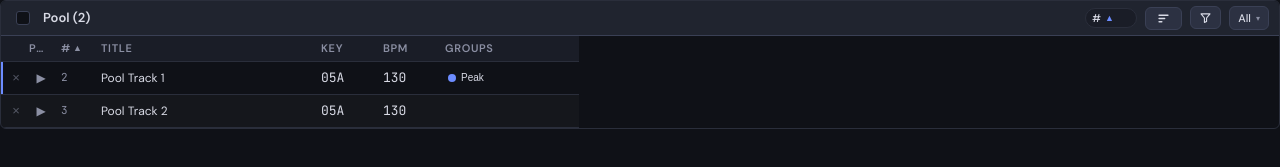
Test case: PoolWidget › lists pool subgroups with their counts in the groups menu
Click the button "All ▾". click: (1249, 18)
box: [1229,6,1269,30]
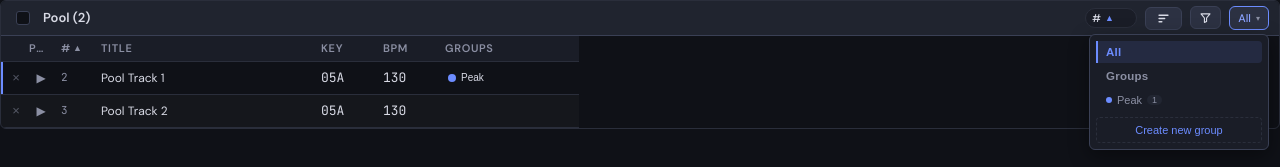
Now the tab "Peak1" is shown, box [1096,89,1249,111]
Now the text "1" is shown, box [1147,95,1162,105]
Now the tab "All" is shown, box [1096,41,1262,63]
